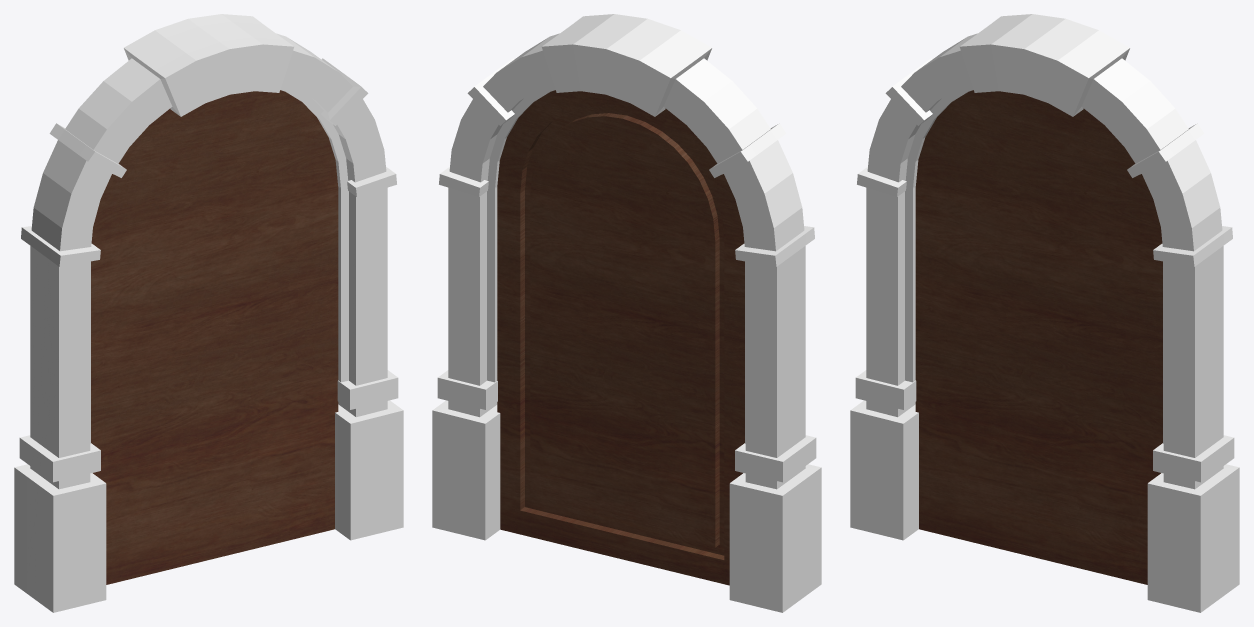
File: Door.glb
3 renders of one model, left to right at view 1: azimuth 30°, elevation 25°; view 2: azimuth 150°, elevation 25°; view 3: azimuth 330°, elevation 25°, orthographic.
Parts seen in each view (by area): view 1: Circle.001, Circle; view 2: Circle.001, Circle; view 3: Circle.001, Circle.
Part boxes in pixels (bbox=[...]): Circle.001: bbox=[91, 90, 338, 584]; Circle: bbox=[14, 14, 403, 612]; Circle.001: bbox=[497, 90, 744, 585]; Circle: bbox=[432, 14, 821, 612]; Circle.001: bbox=[915, 90, 1162, 584]; Circle: bbox=[850, 14, 1239, 612].
Bounding box in the file's own units: 1.07 × 1.52 × 0.2237.
2 materials, 1 textured.
